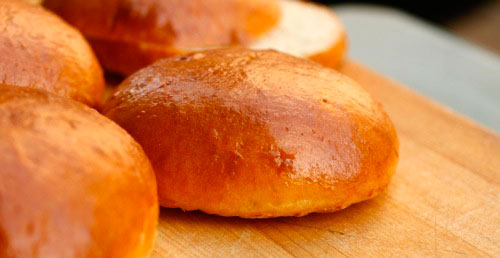hamburger_buns: (122, 44, 399, 205), (5, 91, 212, 258), (1, 9, 358, 96)
